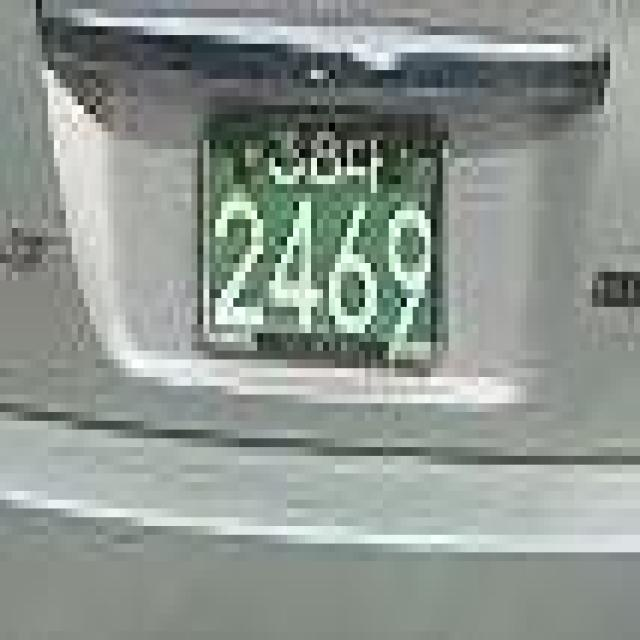illegal_plate: (188, 88, 454, 383)
